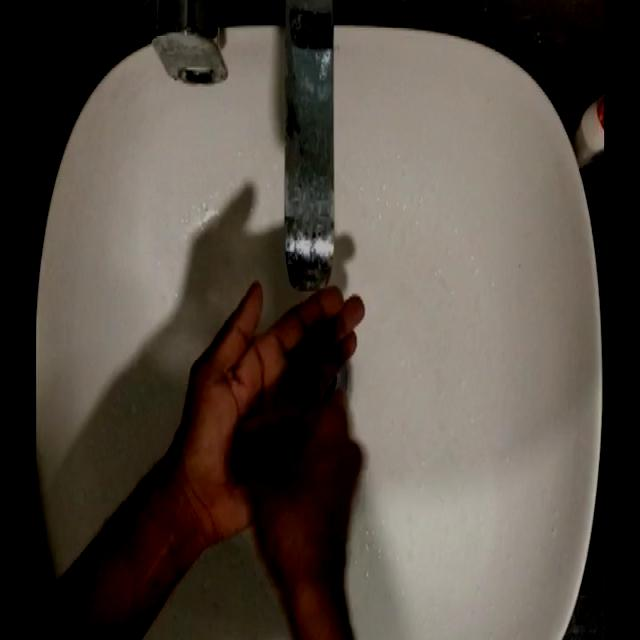step_6: (173, 282, 381, 585)
